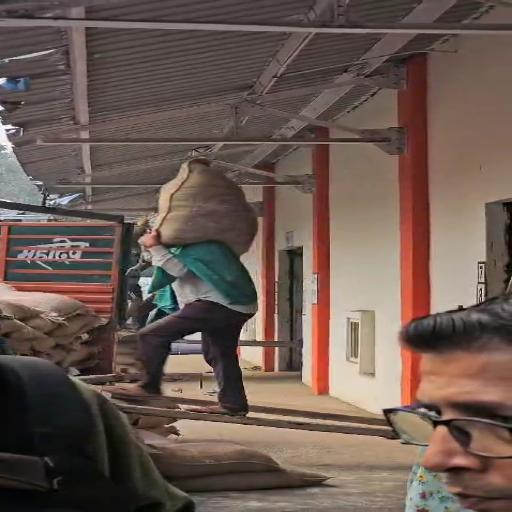bag: (138, 150, 262, 258)
